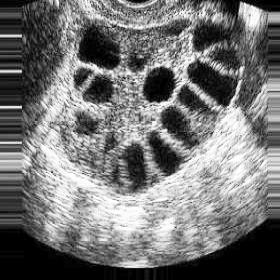PCOS: (77, 18, 125, 72), (187, 62, 238, 108), (160, 100, 197, 149), (148, 129, 182, 176), (142, 64, 178, 106), (123, 138, 151, 192), (174, 85, 215, 118), (83, 75, 118, 105), (191, 24, 228, 50), (212, 43, 244, 72), (76, 108, 100, 137), (128, 51, 150, 76), (70, 65, 92, 89)
